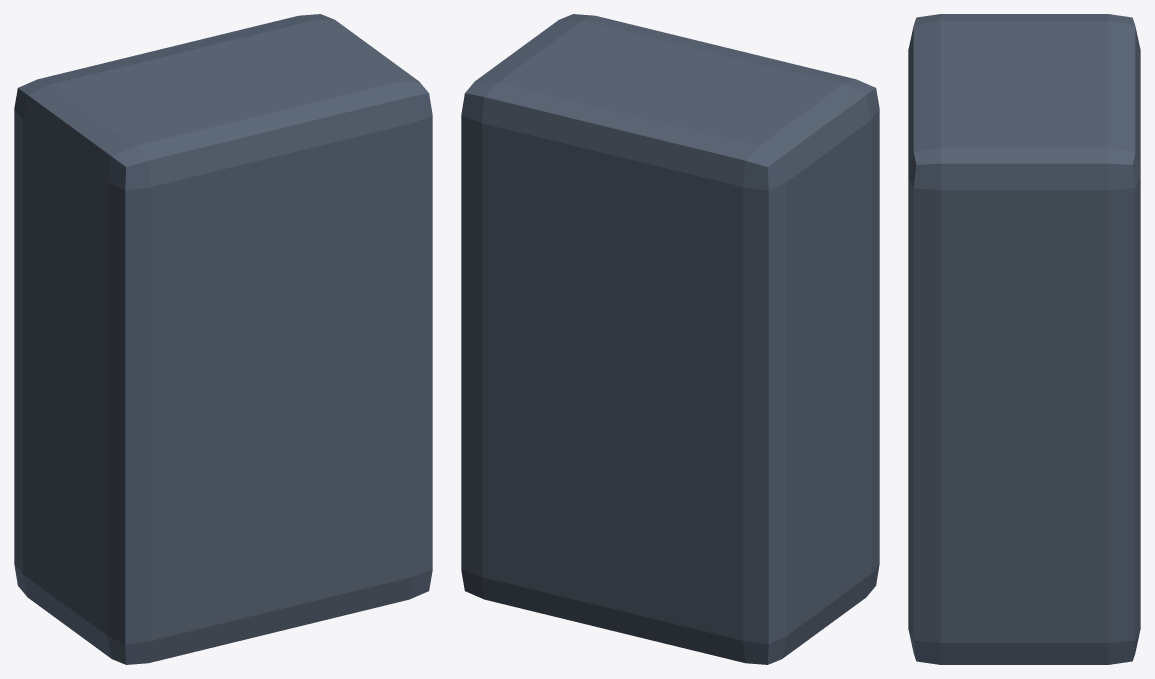
Rendered from waist__side_clip__base.glb.
3 renders of one model, left to right at view 1: azimuth 30°, elevation 25°; view 2: azimuth 150°, elevation 25°; view 3: azimuth 270°, elevation 25°, orthographic.
Parts seen in each view (by area): view 1: armor_waist__side_clip__base_v001; view 2: armor_waist__side_clip__base_v001; view 3: armor_waist__side_clip__base_v001.
Boxes of the visible parts, x1,y1,x2,y2 form: armor_waist__side_clip__base_v001: (14, 14, 432, 664); armor_waist__side_clip__base_v001: (461, 14, 879, 664); armor_waist__side_clip__base_v001: (908, 14, 1140, 664).
Bounding box in the file's own units: 0.0341 × 0.0527 × 0.0217.
